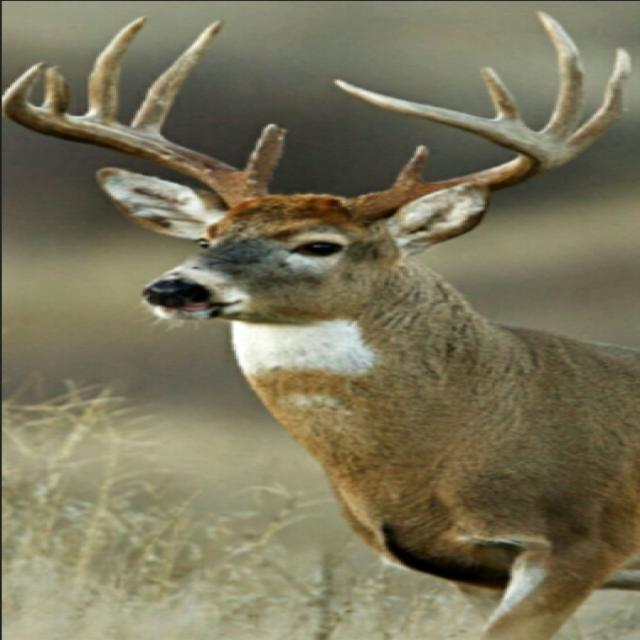L-F: (331, 78, 562, 225)
L-G1: (391, 144, 431, 189)
L-G2: (559, 46, 632, 164)
L-G3: (534, 10, 585, 143)
L-G4: (476, 66, 526, 125)
R-G1: (241, 122, 289, 190)
R-G2: (129, 18, 225, 136)
R-G3: (82, 15, 148, 123)
R-G4: (39, 64, 72, 116)
